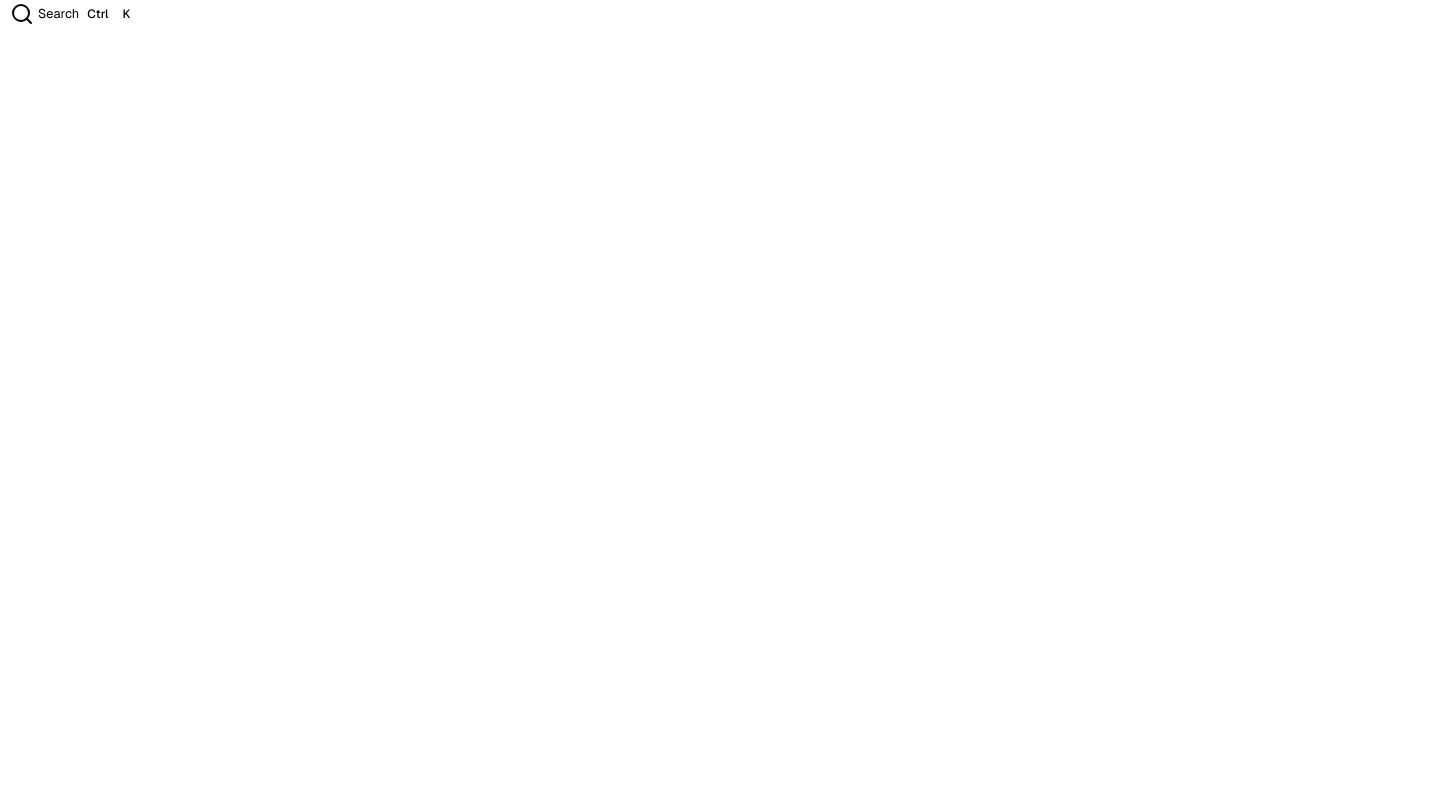
it: Esc clears the query first, then closes
Press k
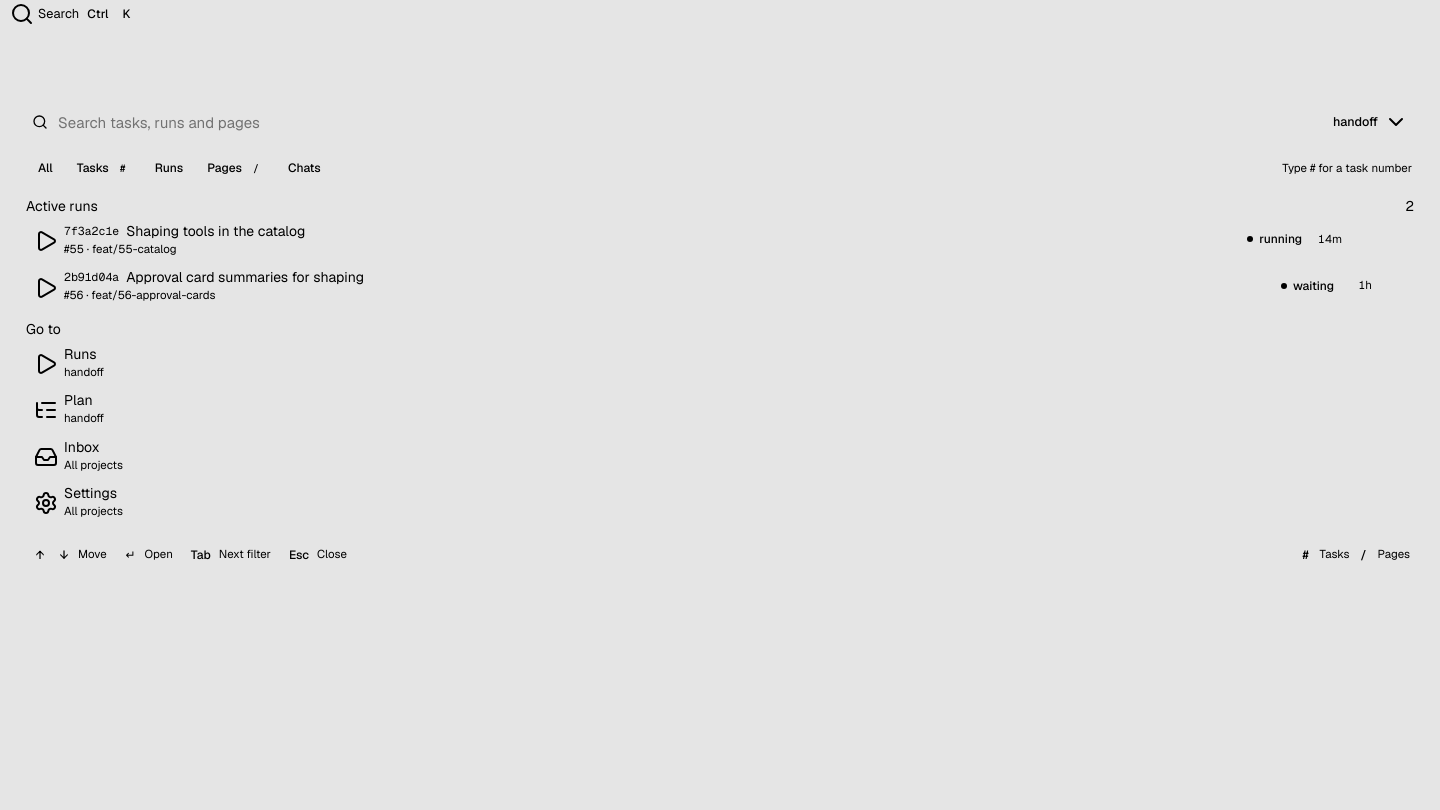
Type "plan" into the dropdown with placeholder "Search tasks, runs and pages" at (676, 122), box [58,96,1295,148]
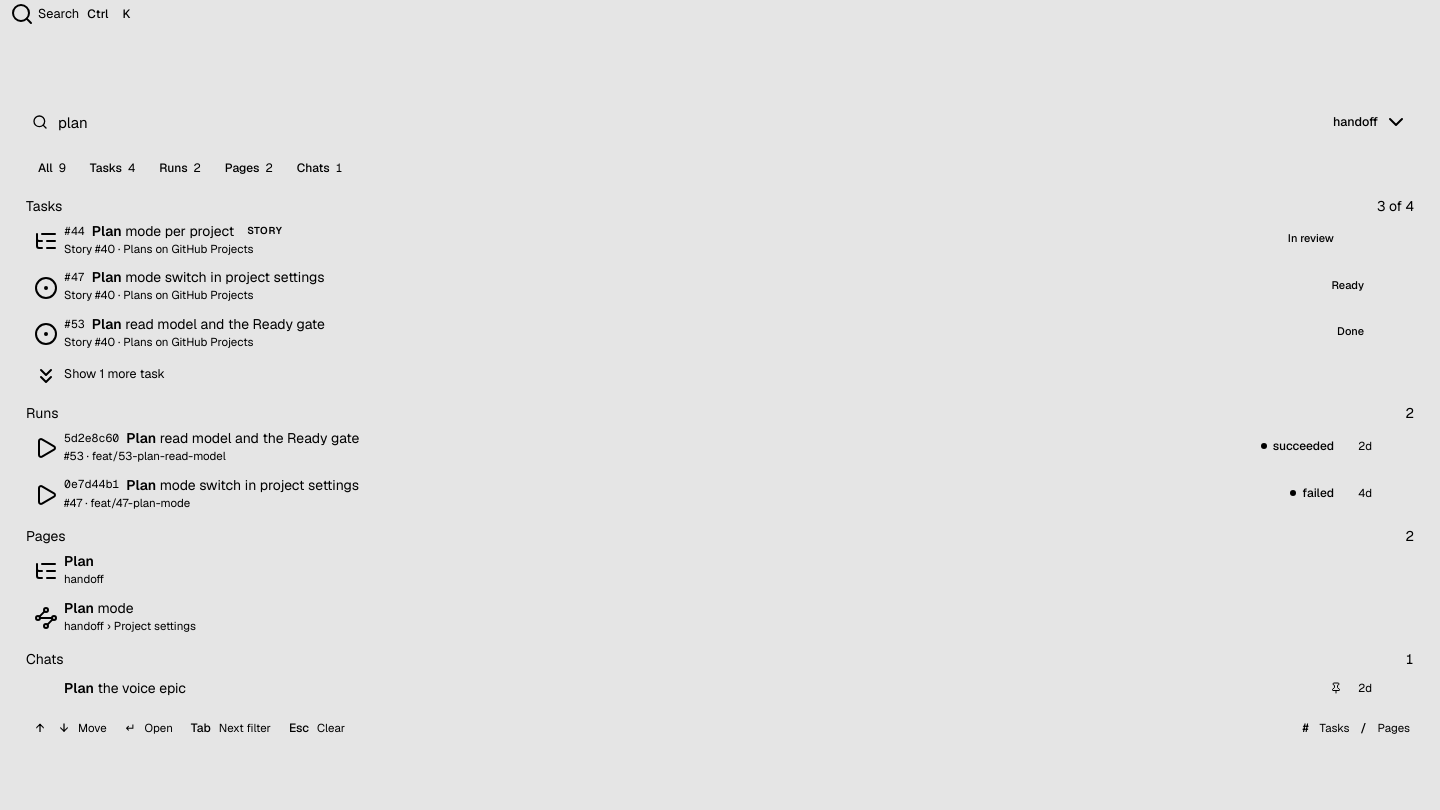
Press Escape in the dropdown with placeholder "Search tasks, runs and pages", box [58,96,1295,148]
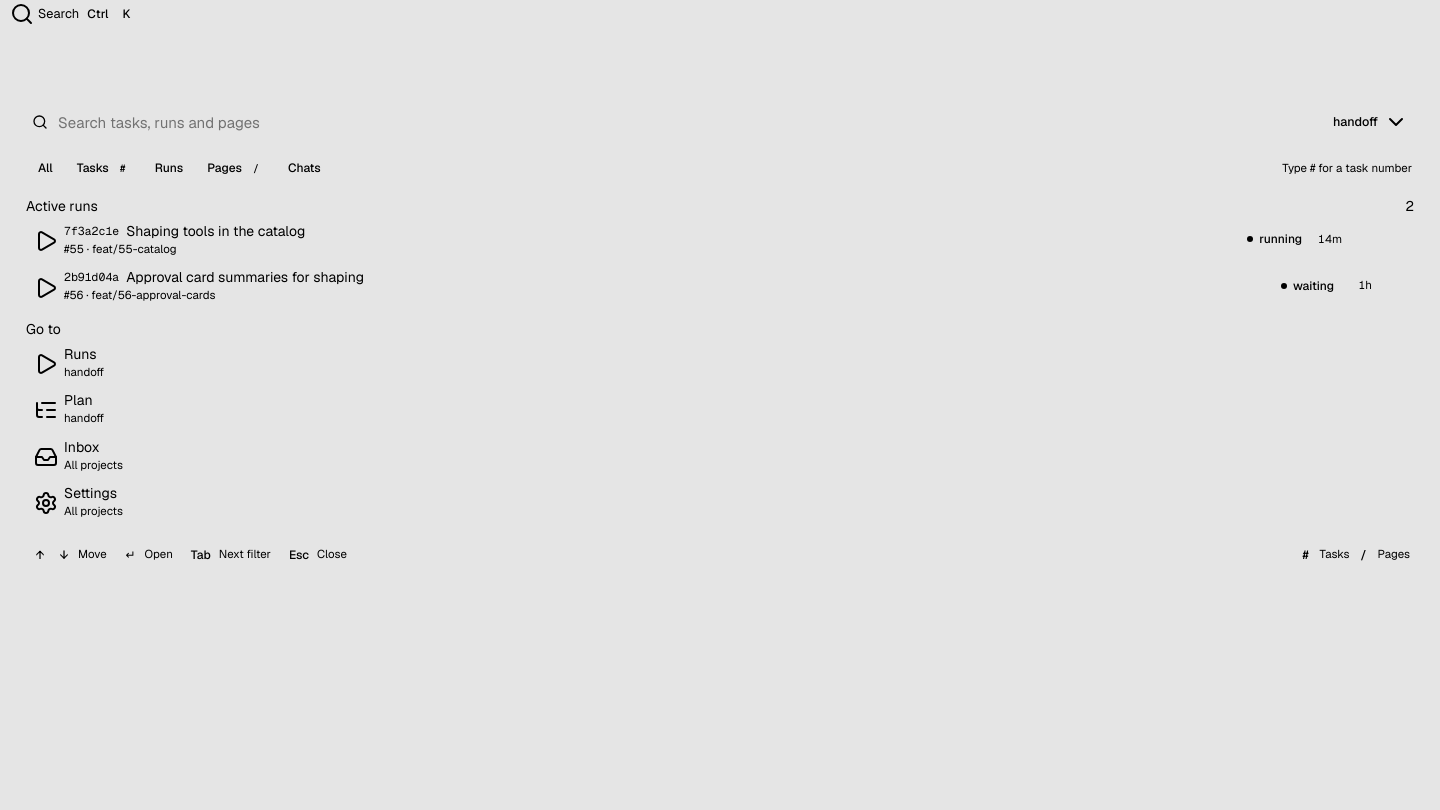
Expected: the dialog named "Search" is shown, [16,96,1424,574]
Expected: the dropdown with placeholder "Search tasks, runs and pages" is empty
Press Escape in the dropdown with placeholder "Search tasks, runs and pages", box [58,96,1295,148]
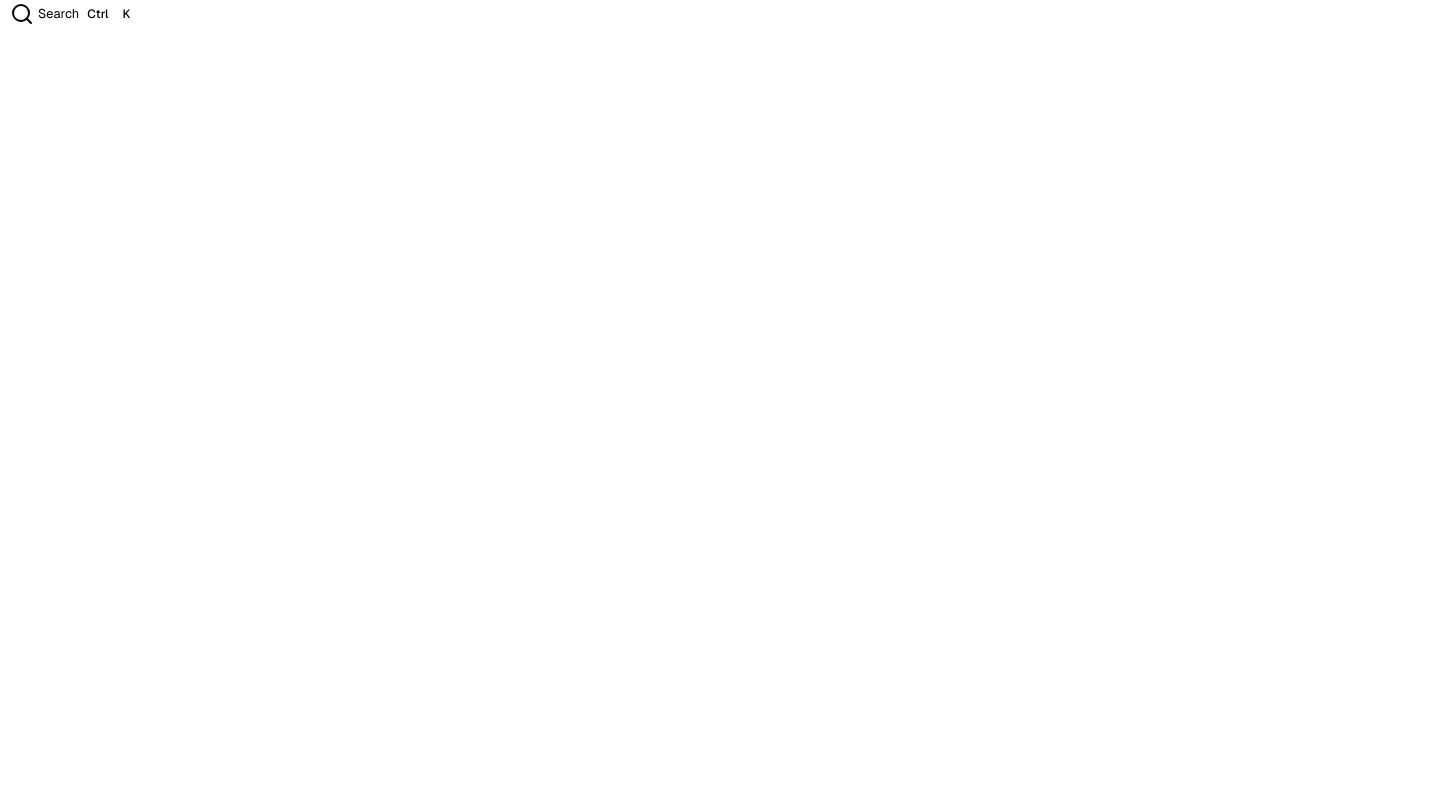
Expected: the dialog is gone
